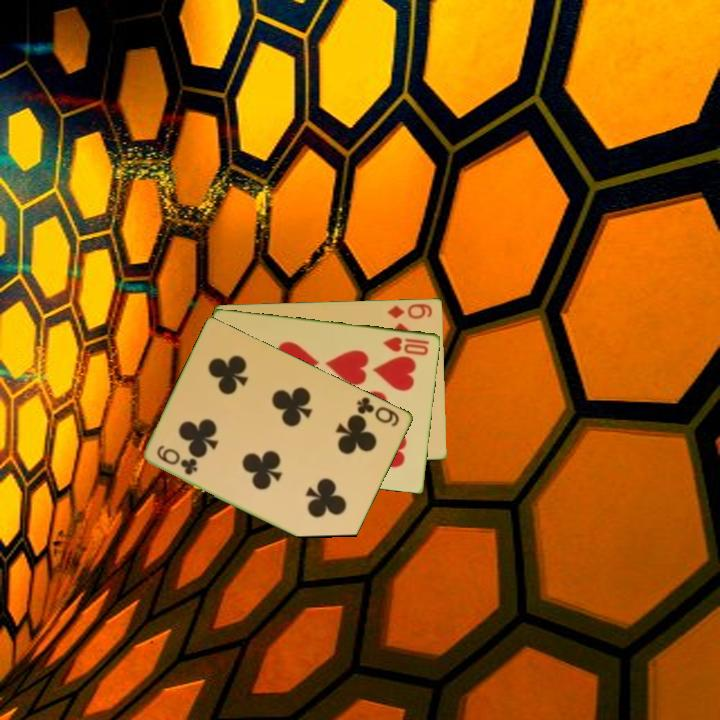10h: (380, 333, 432, 358)
6c: (353, 393, 402, 430), (153, 442, 201, 478)
6d: (384, 300, 435, 322)
